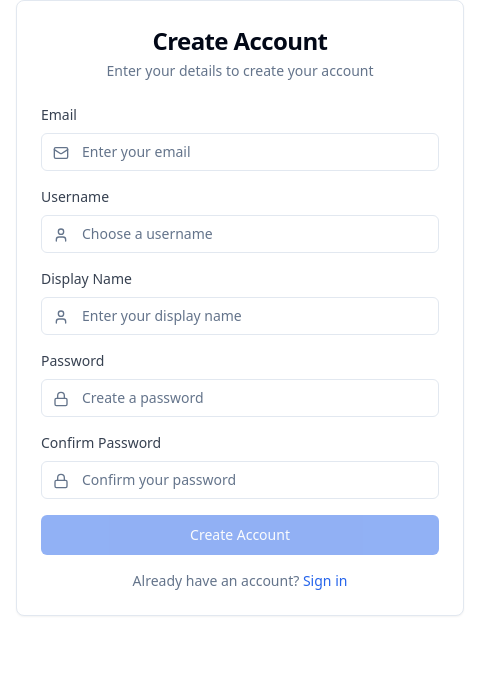
it: SignUpForm Security › Username Input Security › should reject usernames that are too short
Type "ab" into the field labelled "Username".
click(240, 234); type("ab")  # box [41,215,439,253]
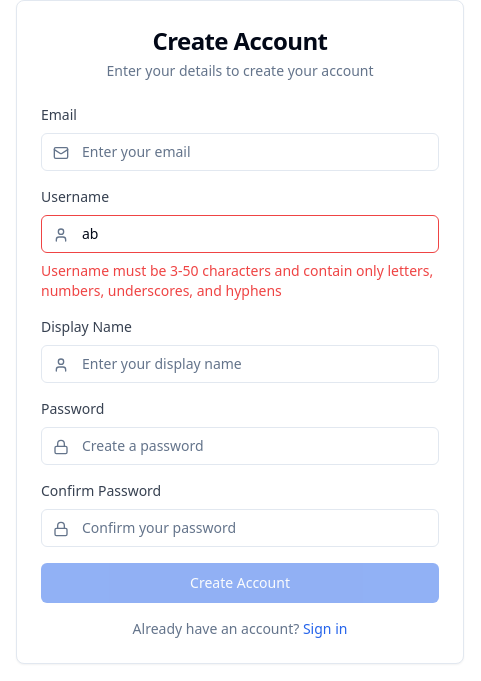
Expected: the text "Username must be 3-50 characters and contain only letters, numbers, underscores, and hyphens" is shown, [41,261,433,300]
